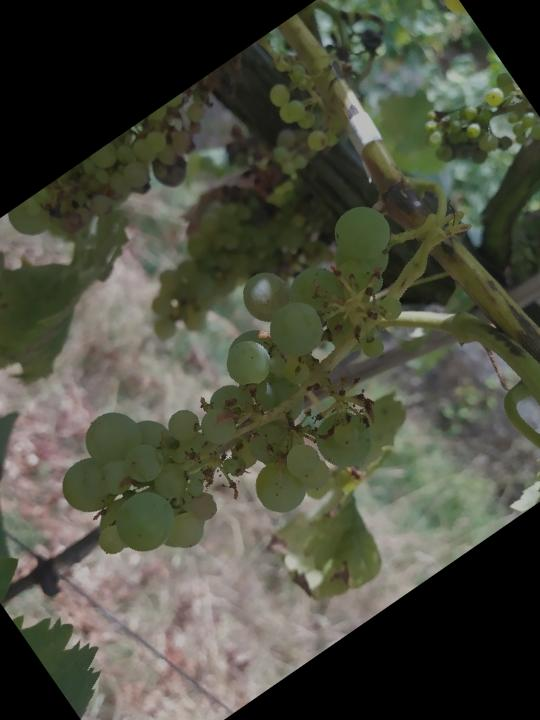grape: (17, 190, 501, 624)
